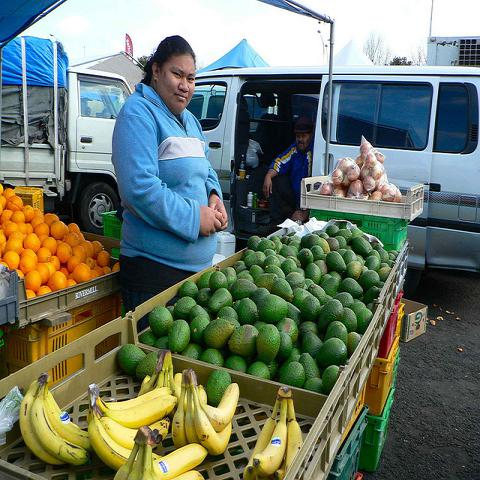car: (189, 73, 479, 305)
truck: (189, 64, 479, 297), (1, 37, 133, 234)
